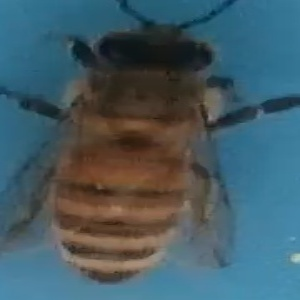bee: (12, 3, 300, 288)
